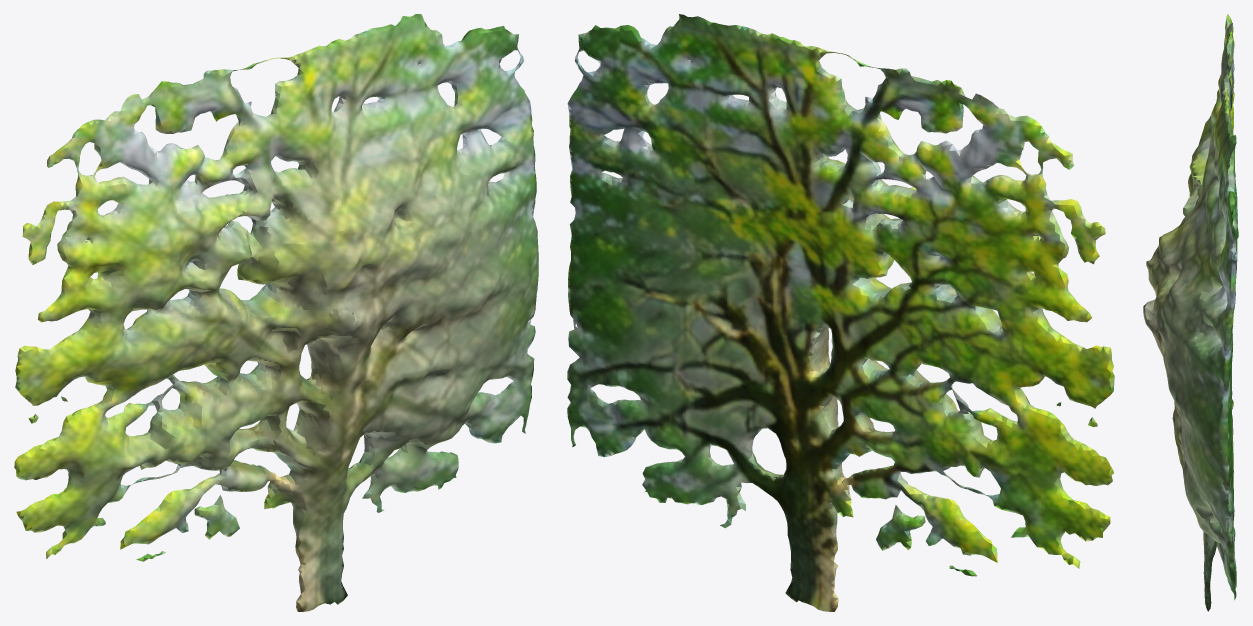
Rendered from Tree-5d68.glb.
3 renders of one model, left to right at view 1: azimuth 30°, elevation 25°; view 2: azimuth 150°, elevation 25°; view 3: azimuth 270°, elevation 25°, orthographic. The views are drawn at different scales.
Visible parts, largest first — view 1: world; view 2: world; view 3: world.
Boxes of the visible parts, box(x1,y1,x2,y2) form: world: box(14, 14, 538, 611); world: box(567, 14, 1114, 611); world: box(1143, 14, 1238, 611).
Size of the model in its own units: 0.8818 by 0.8955 by 0.151.
1 material, 1 textured.
